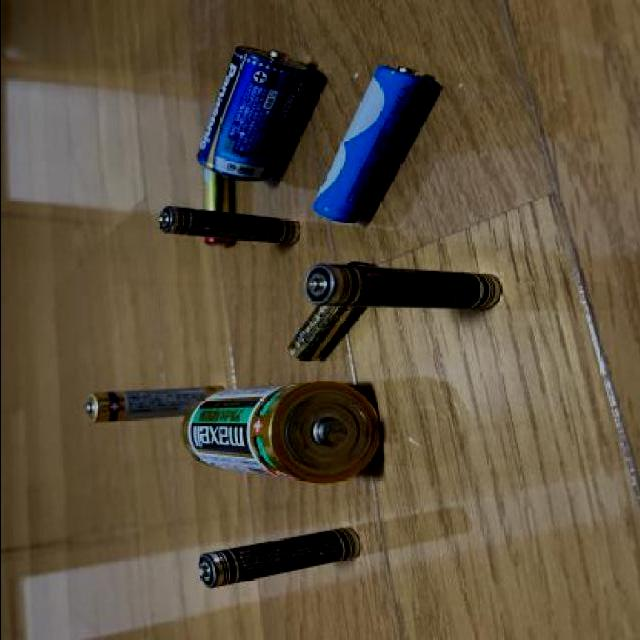AA: (304, 63, 438, 226)
AAA: (195, 523, 363, 592), (300, 262, 505, 316)
